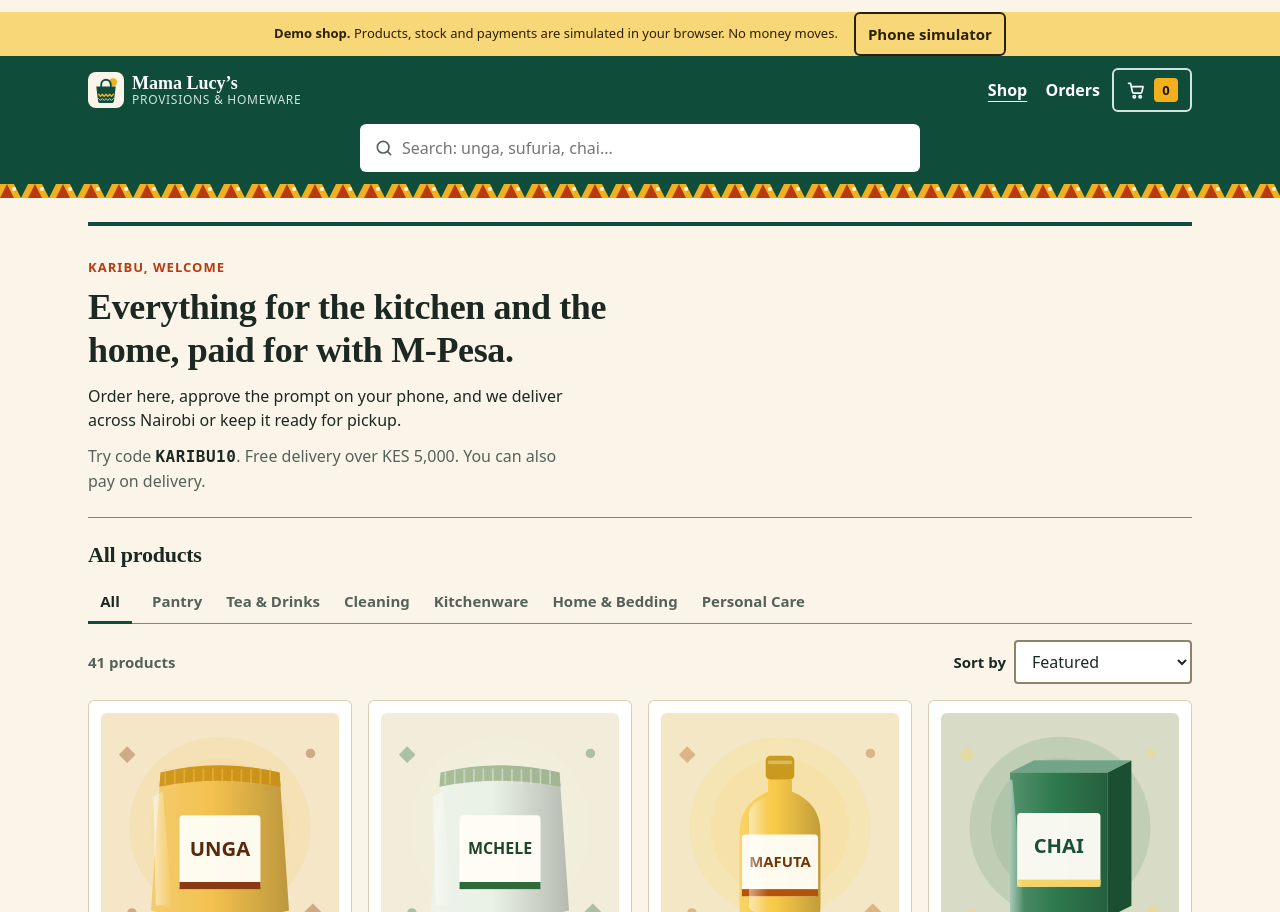
Test case: shop page › category chips toggle with aria-pressed and filter the grid
Click the button "Cleaning".
click(377, 602)  # box top-left (340, 580), bottom-right (414, 624)
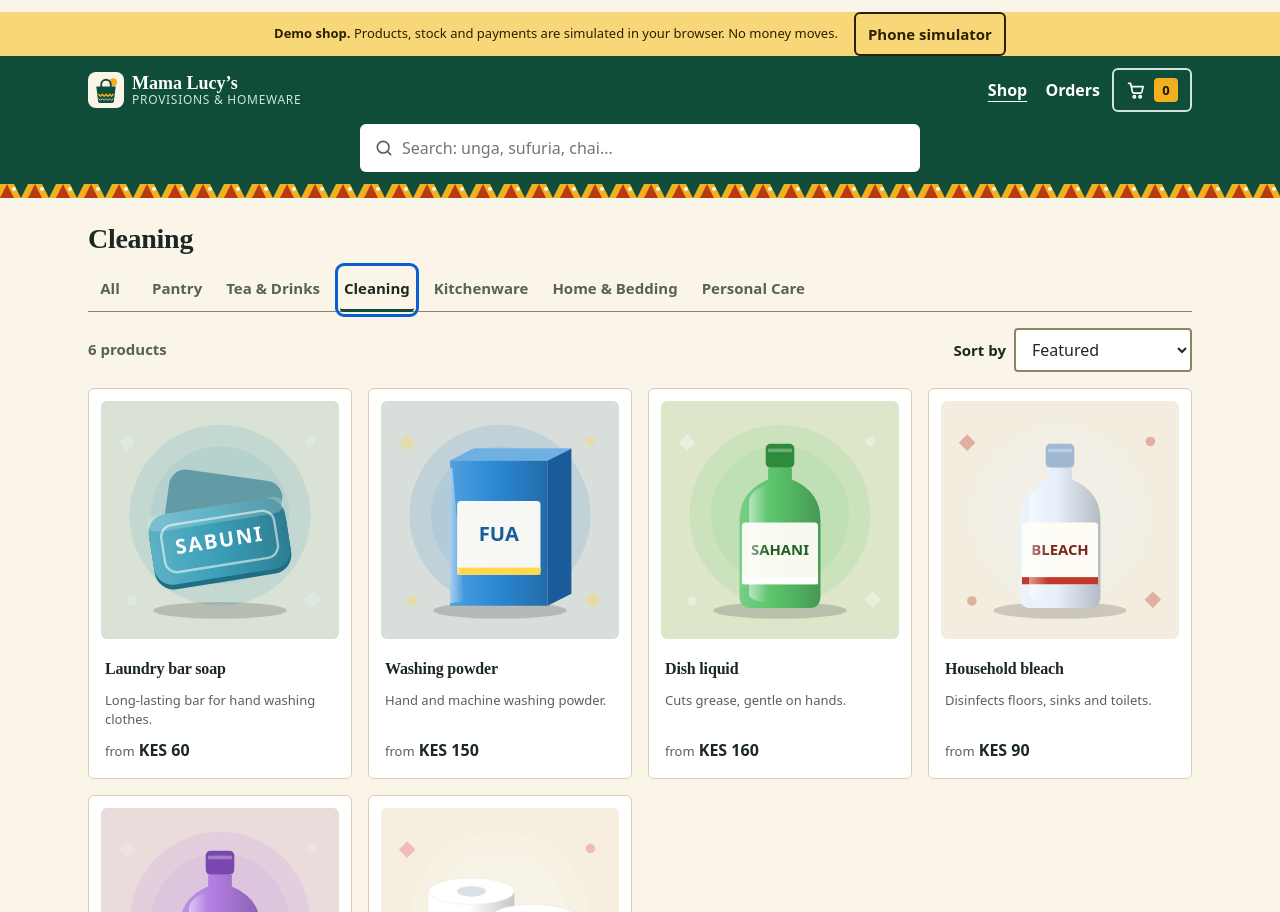
Check: the message with test id "result-count" reads "6 products", box top-left (88, 338), bottom-right (167, 361)
